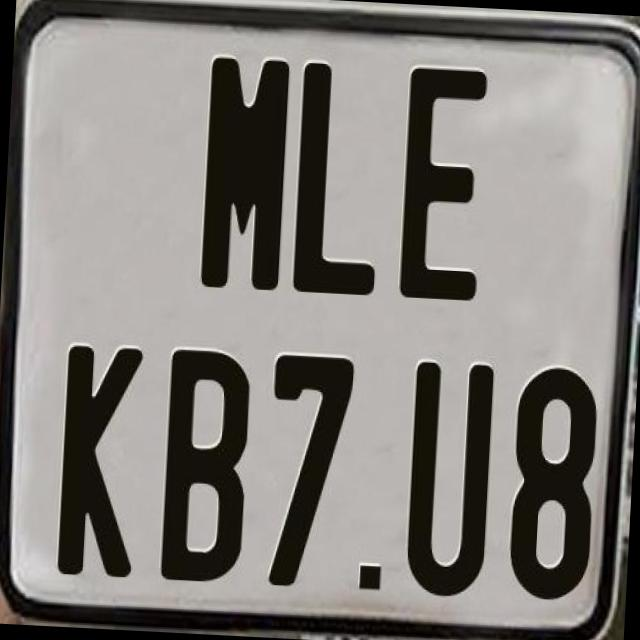7: (260, 350, 356, 590)
8: (507, 364, 607, 607)
B: (158, 344, 256, 586)
E: (396, 66, 486, 304)
K: (56, 340, 144, 581)
L: (288, 62, 388, 297)
M: (198, 52, 294, 290)
U: (402, 357, 497, 601)
